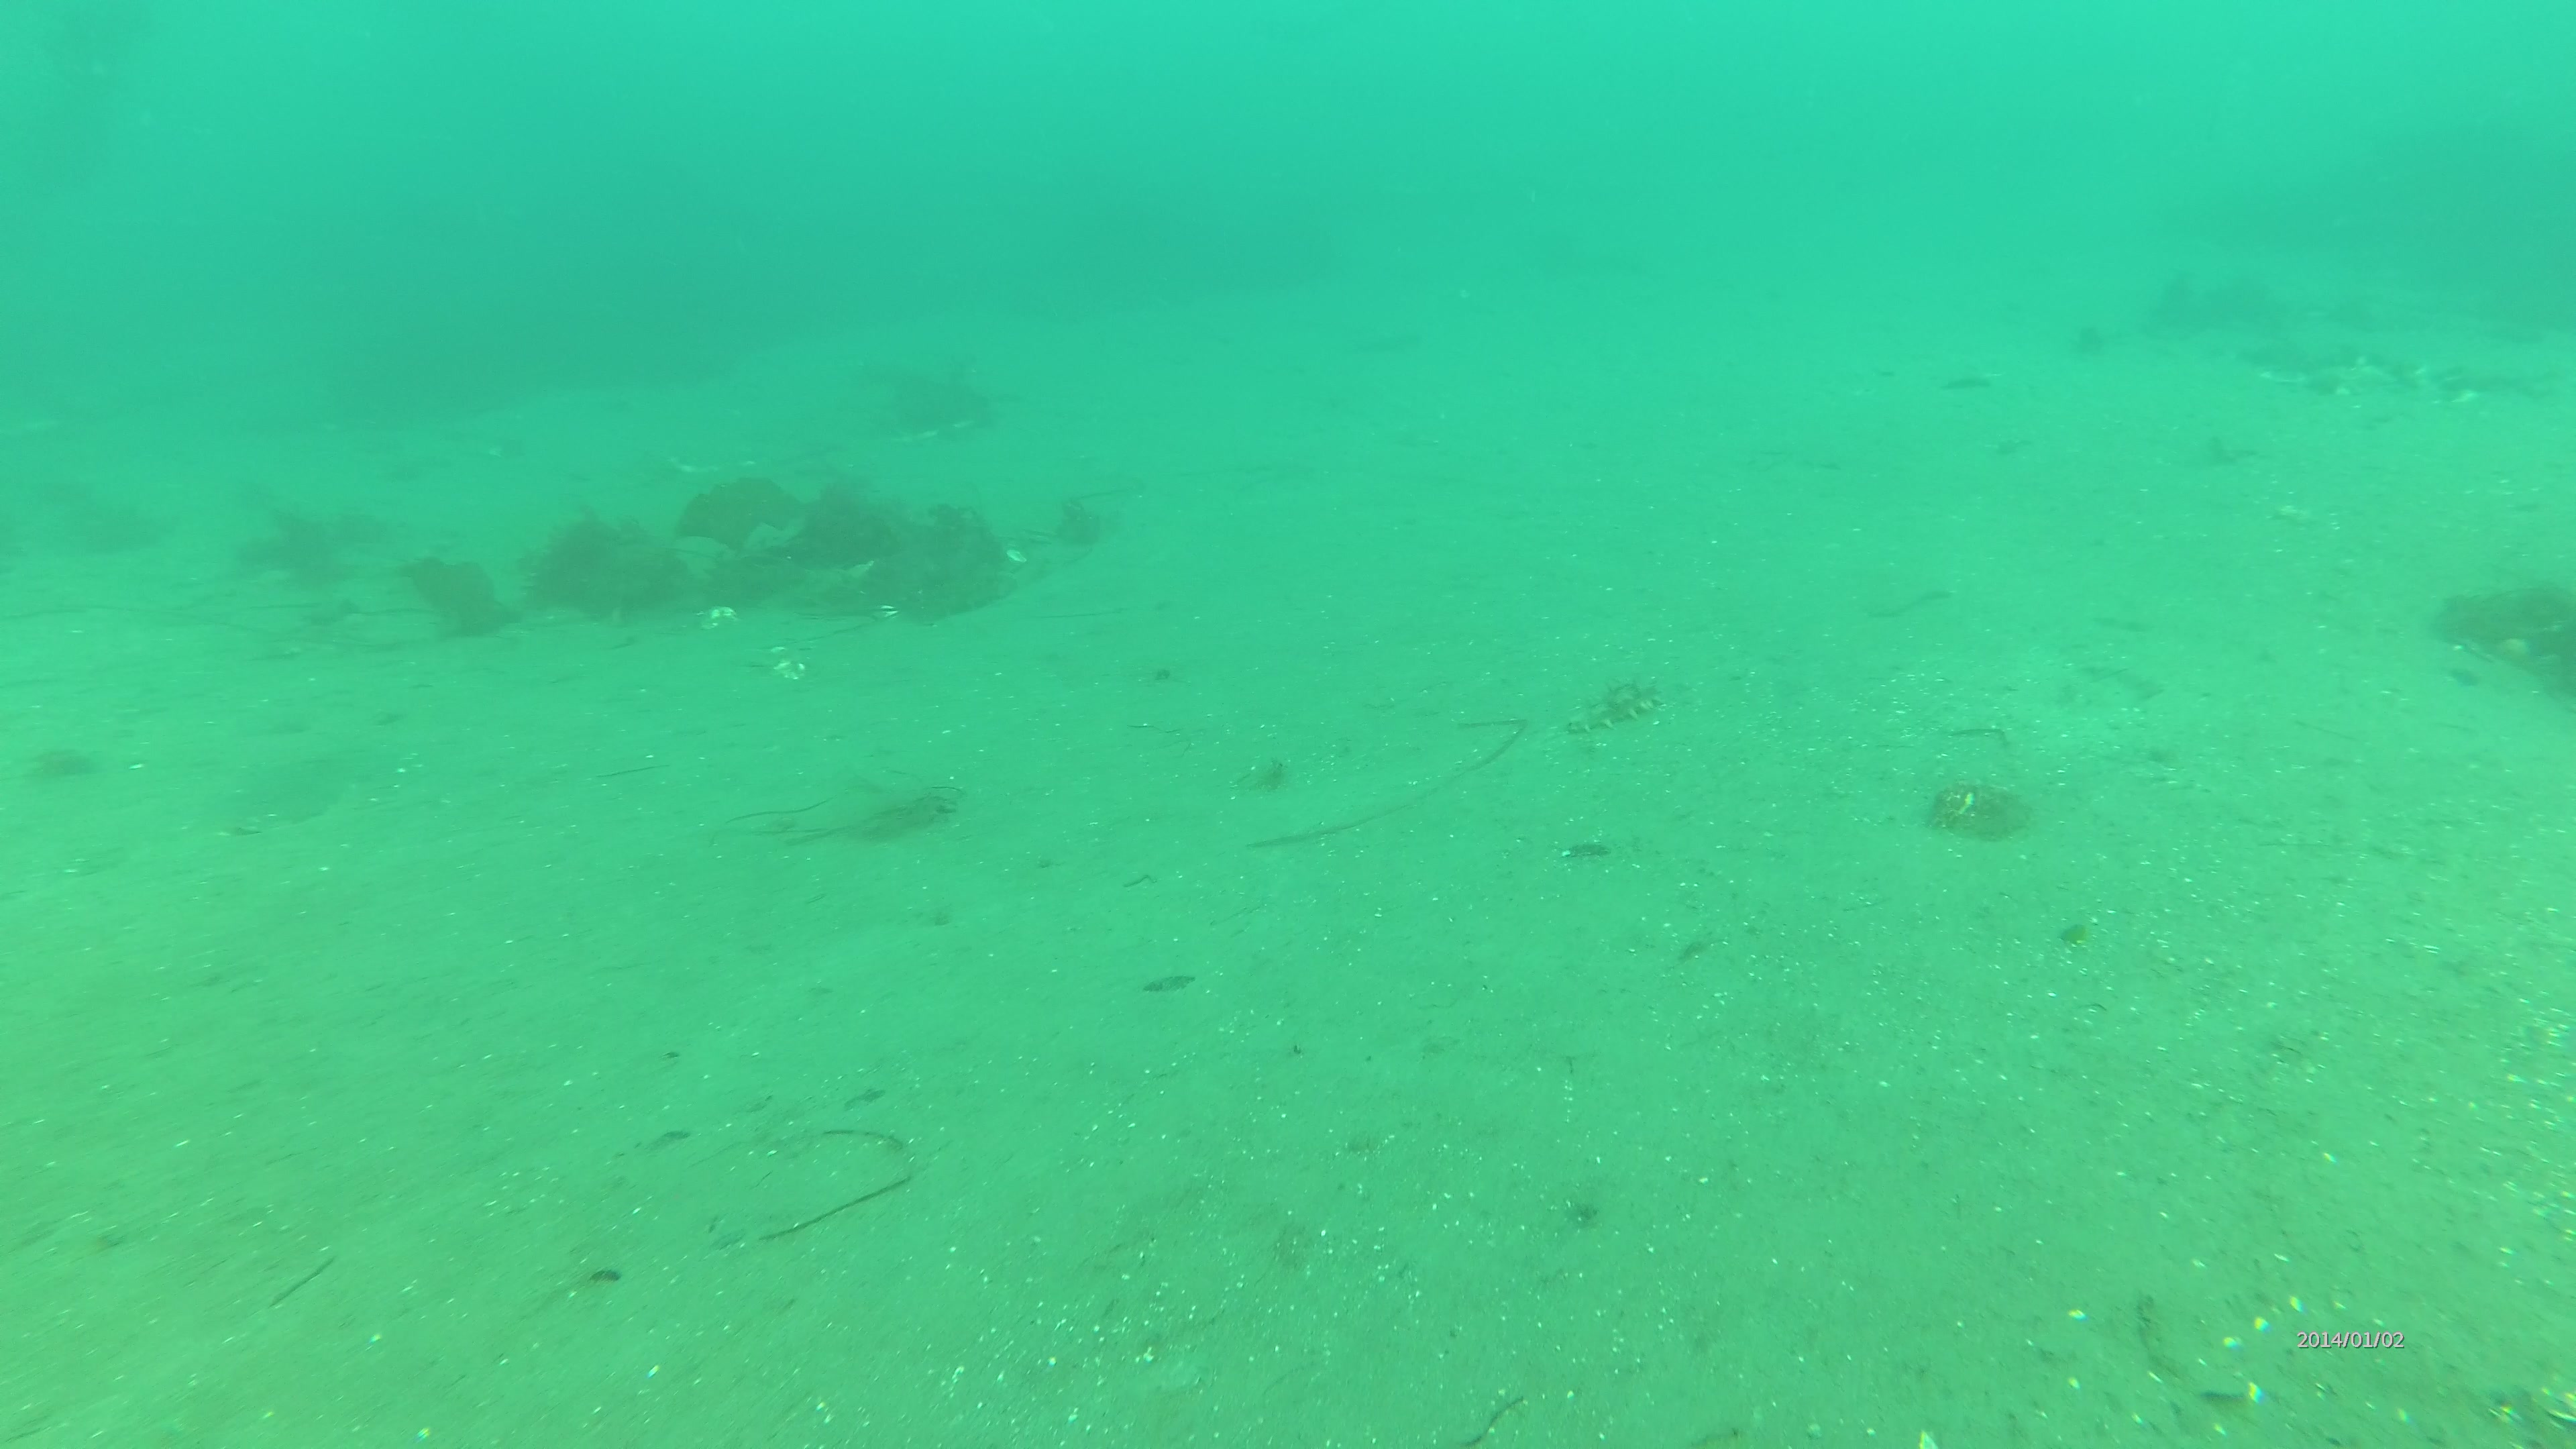holothurian: (1571, 678, 1667, 738)
scallop: (692, 600, 748, 637), (991, 531, 1035, 575), (863, 600, 902, 621)
